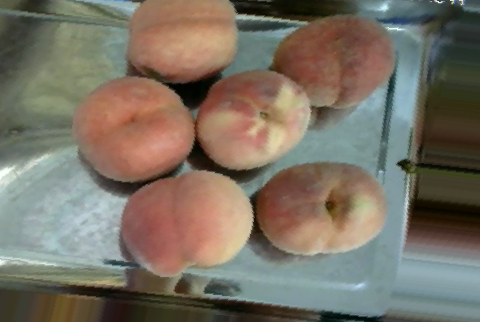Peach: (119, 171, 254, 272), (73, 74, 194, 182), (268, 13, 394, 111), (195, 68, 312, 169), (256, 162, 384, 254), (127, 0, 238, 83)
